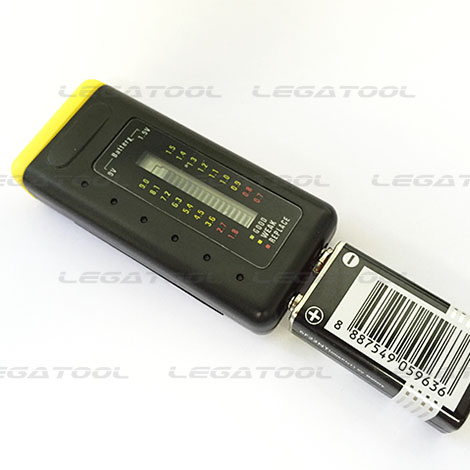Battery: (282, 238, 470, 438)
